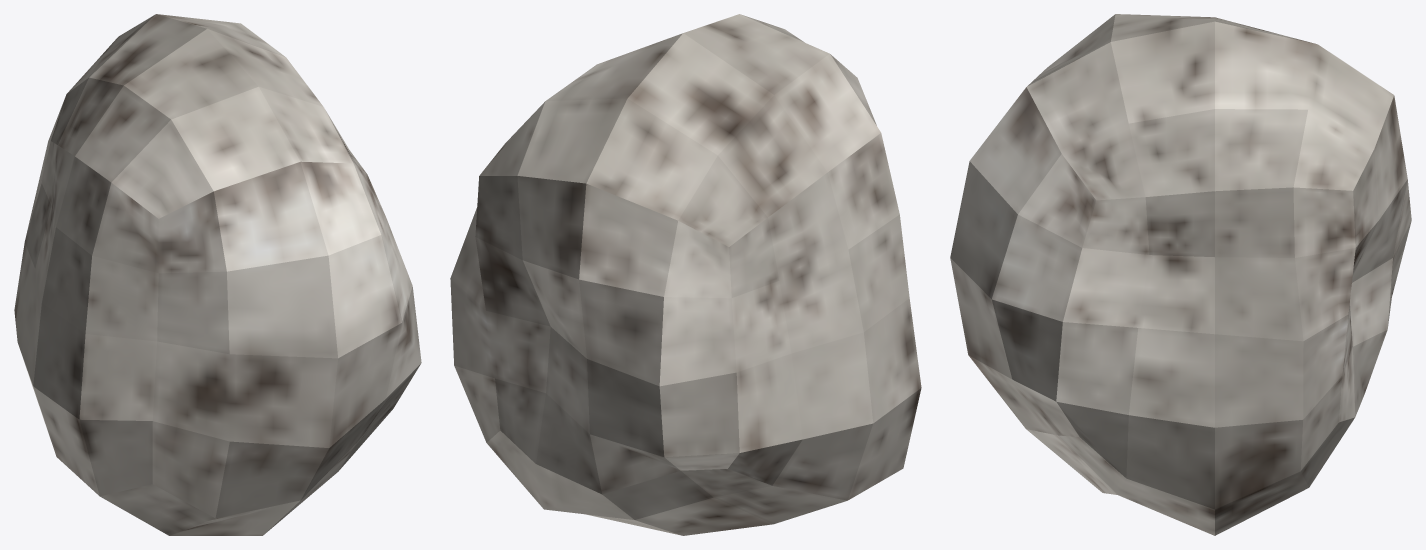
File: Rock_smallball.fbx
3 renders of one model, left to right at view 1: azimuth 30°, elevation 25°; view 2: azimuth 150°, elevation 25°; view 3: azimuth 270°, elevation 25°, orthographic. The views are drawn at different scales.
Visible parts, largest first — view 1: Rock_smallball; view 2: Rock_smallball; view 3: Rock_smallball.
Boxes of the visible parts, x1=… form: Rock_smallball: x1=14, y1=14, x2=421, y2=535; Rock_smallball: x1=450, y1=14, x2=921, y2=535; Rock_smallball: x1=950, y1=14, x2=1411, y2=535.
Size of what is drawn, in the model's own units: 108 by 137 by 122.
